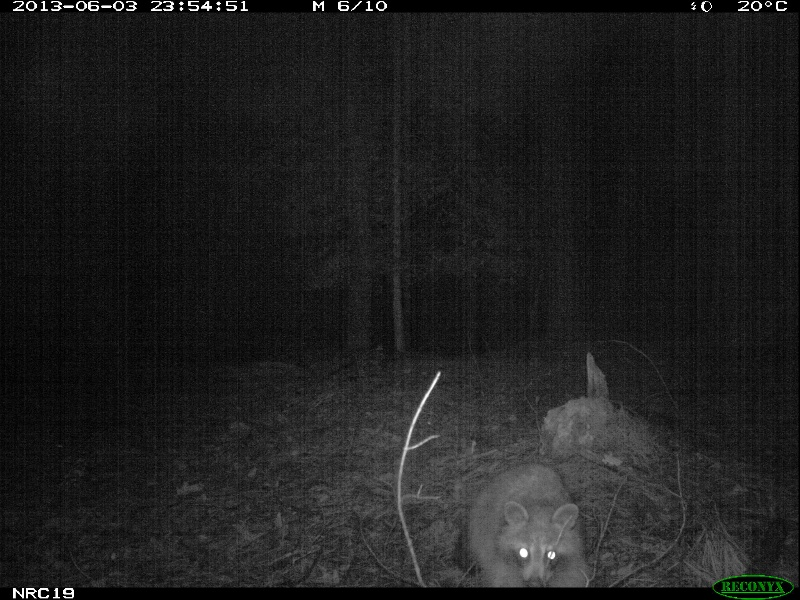raccoon: (466, 465, 594, 588)
